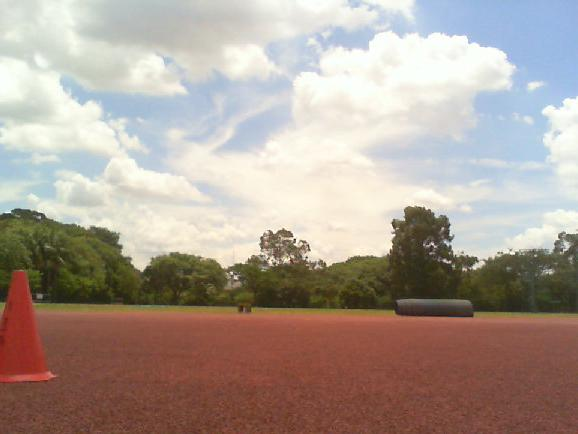0 cone: (0, 270, 57, 383)
